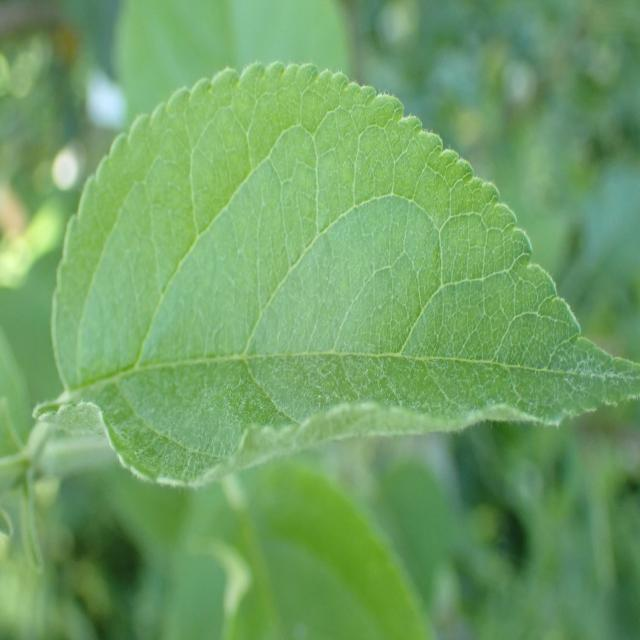healthy: (33, 60, 640, 490)
